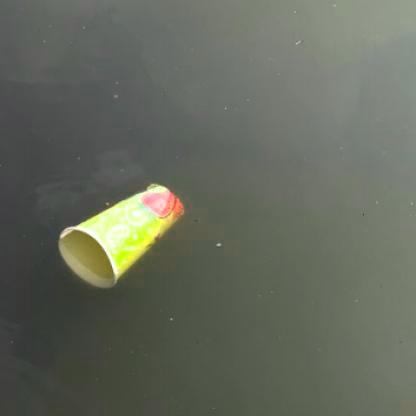Plastic: (54, 182, 184, 291)
